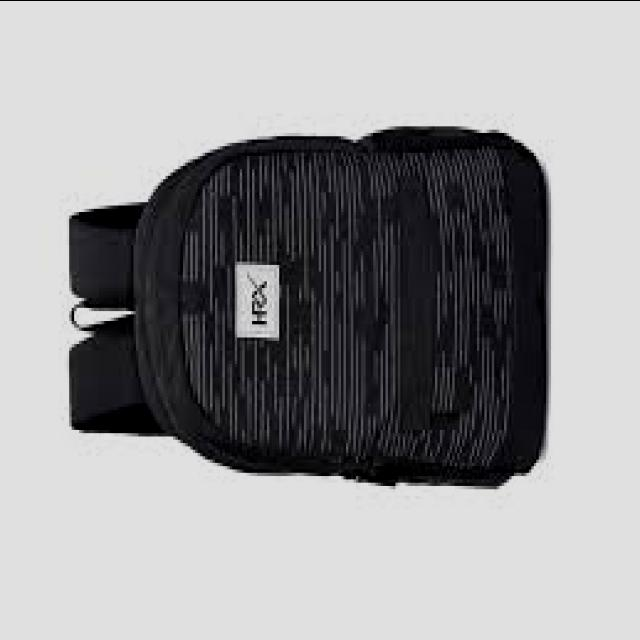backpack: (65, 127, 547, 493)
